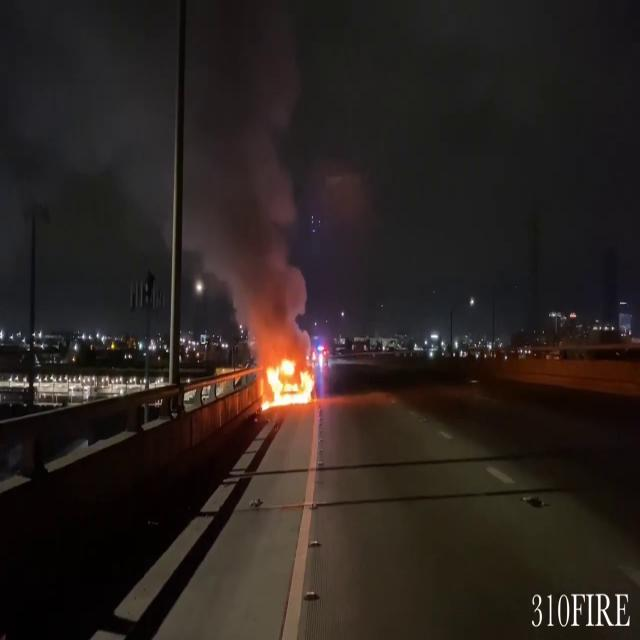Fire: (258, 349, 322, 412)
Smoke: (180, 1, 312, 347)
